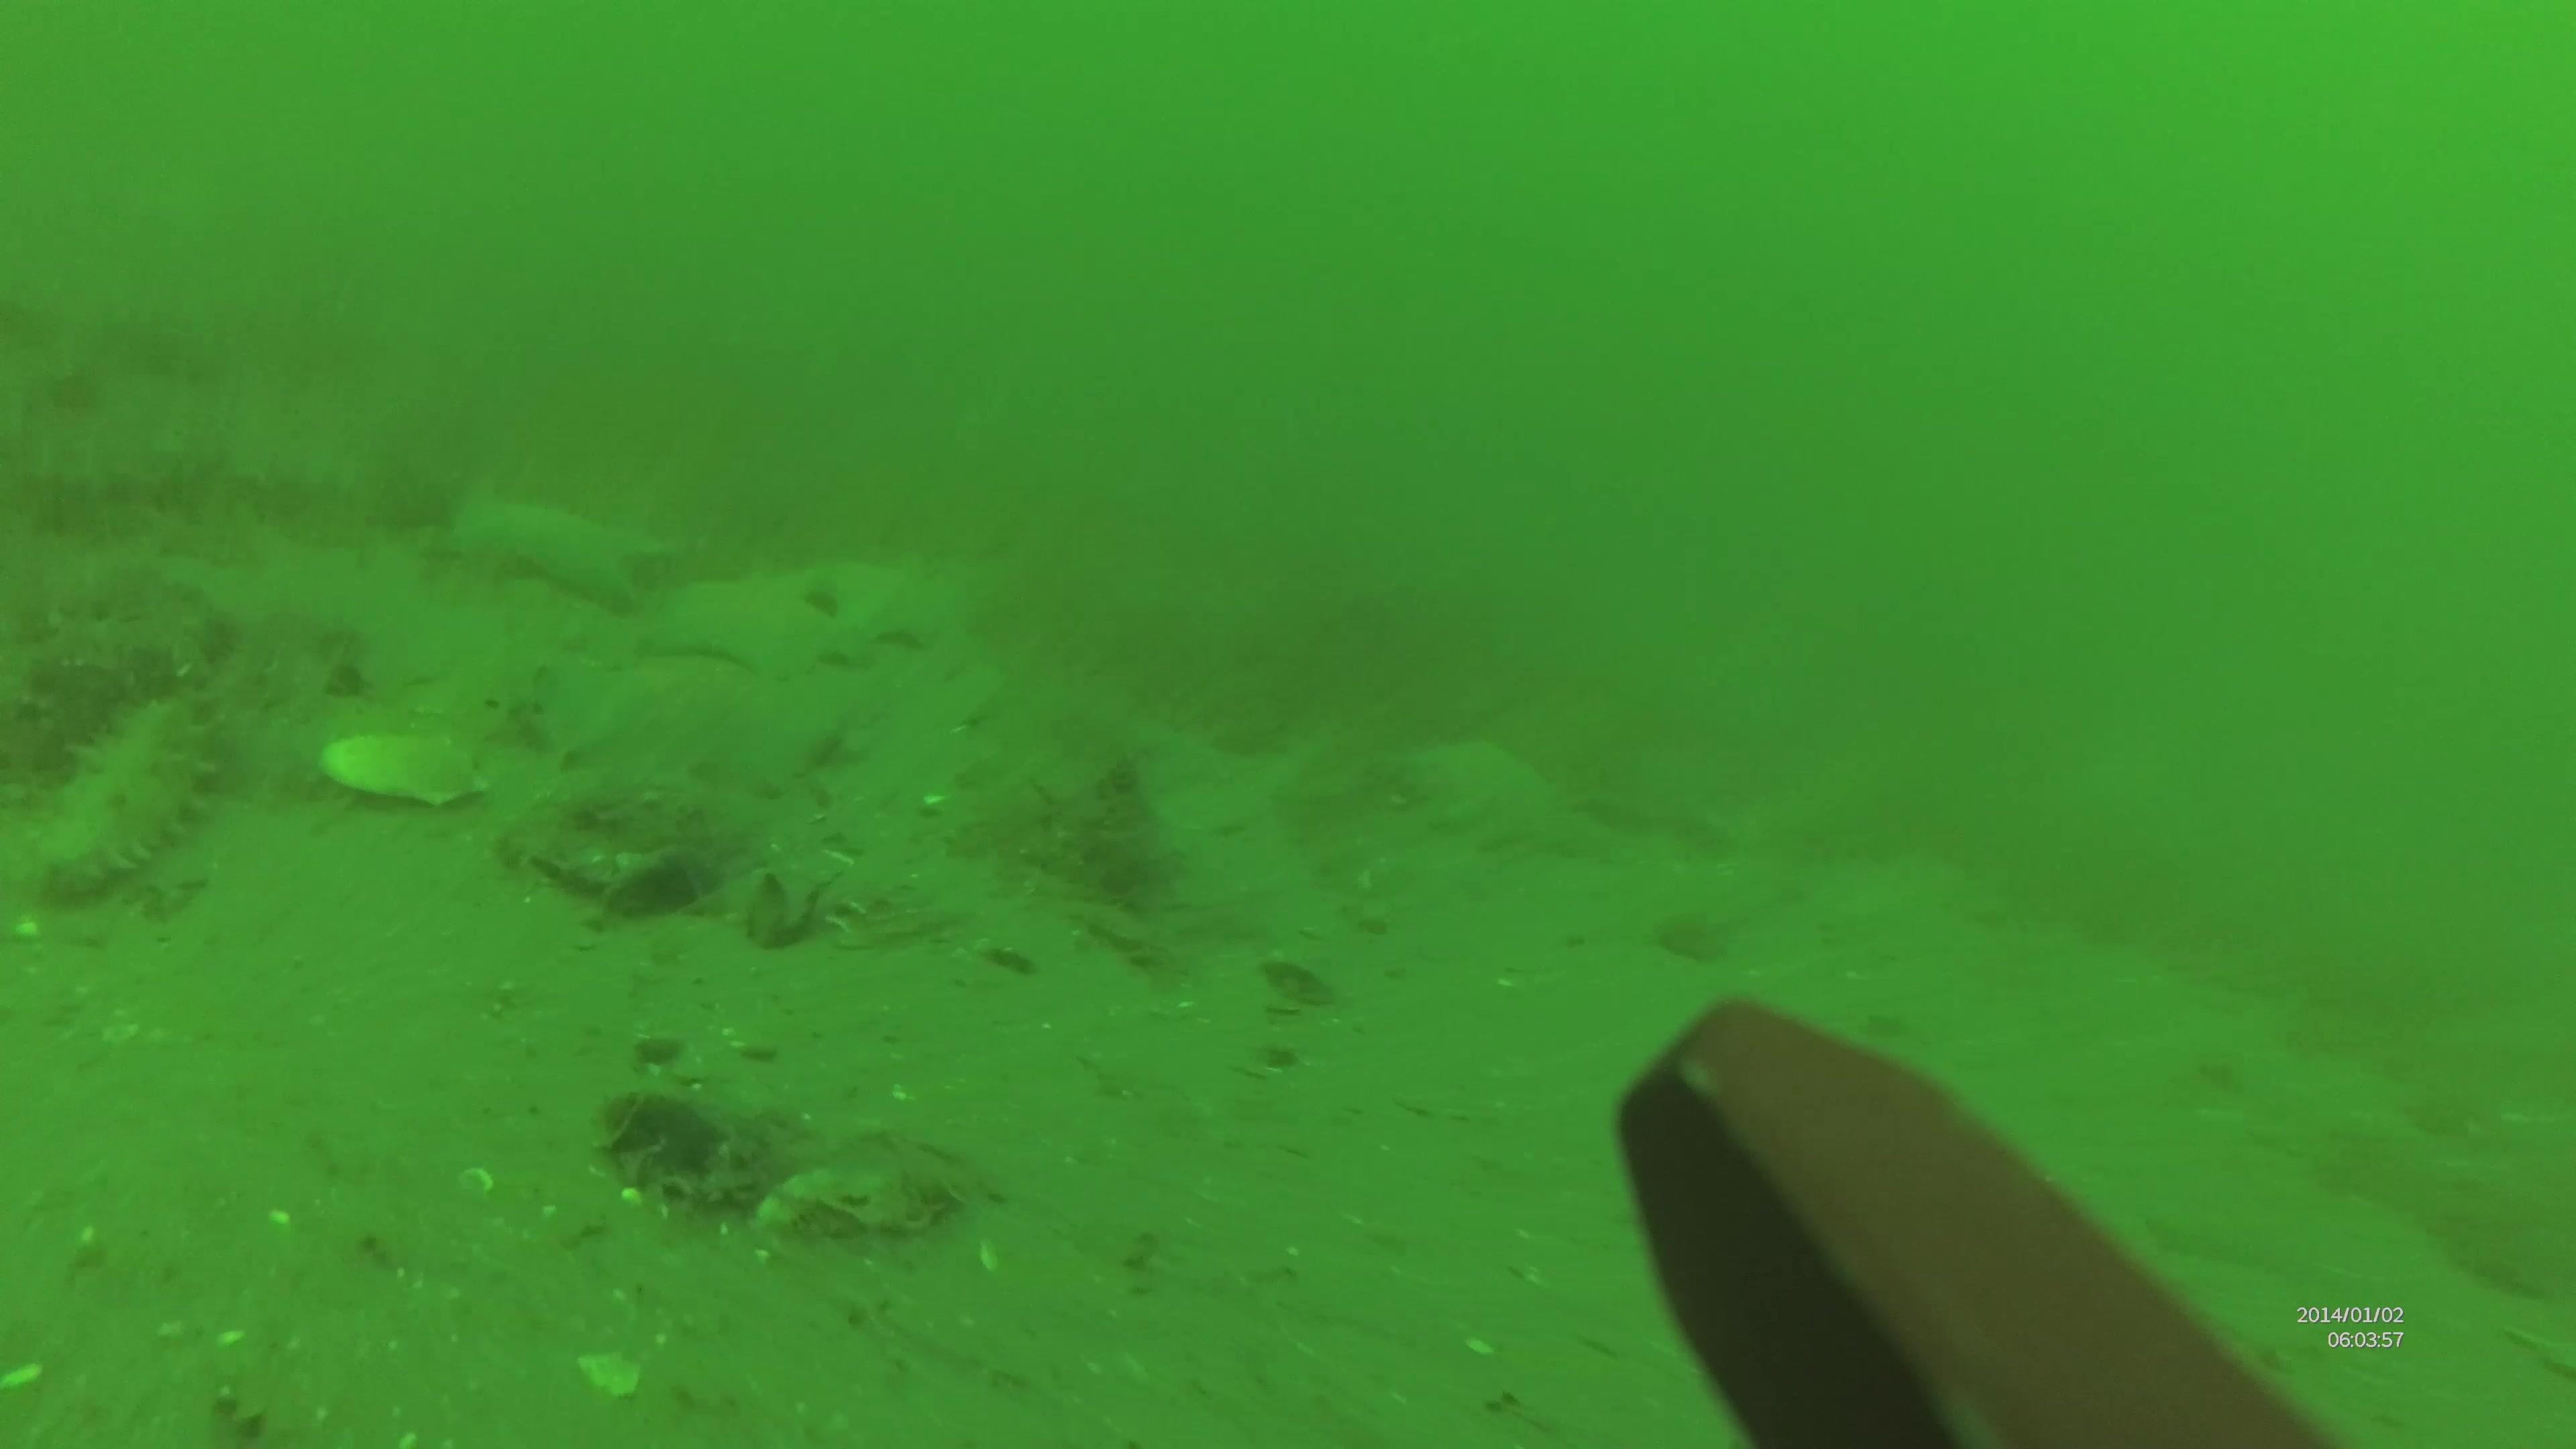holothurian: (44, 686, 205, 879), (44, 600, 214, 688)
scallop: (313, 738, 487, 816)
starfish: (402, 485, 649, 603), (644, 559, 860, 671), (840, 547, 955, 649)
